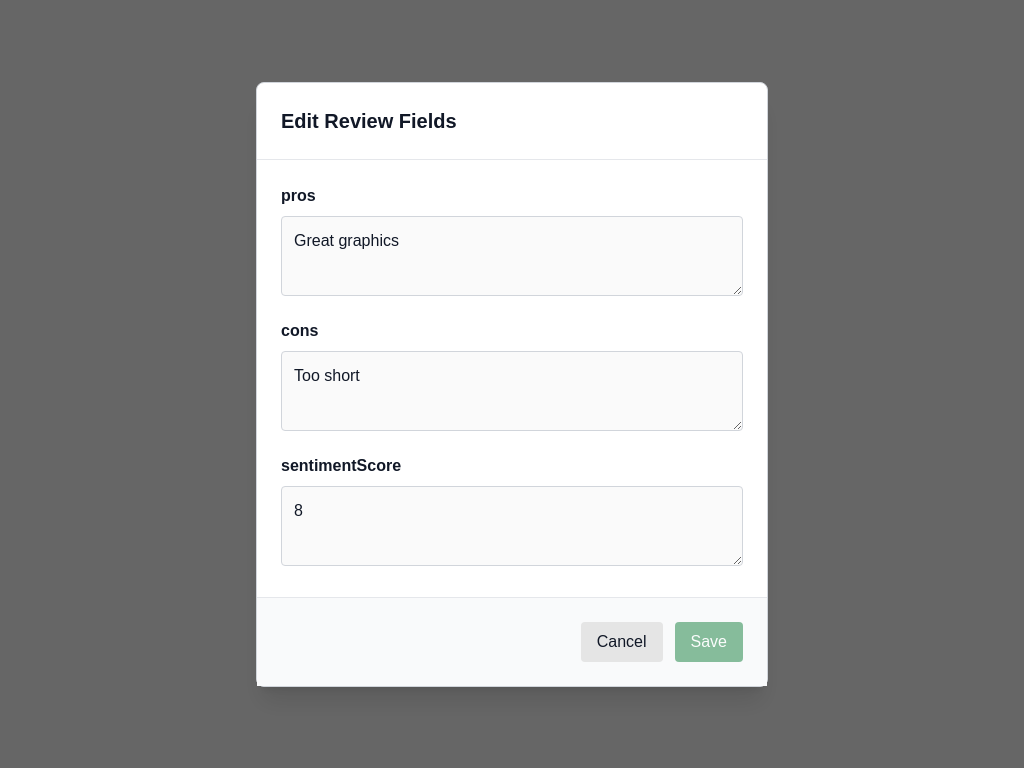
Test: EditReviewModal › displays error message on save failure
This screenshot has width=1024, height=768.
Replace the text in the text box showing "Great graphics" below "pros" with "Amazing visuals" at (512, 256), box [281,216,743,296]
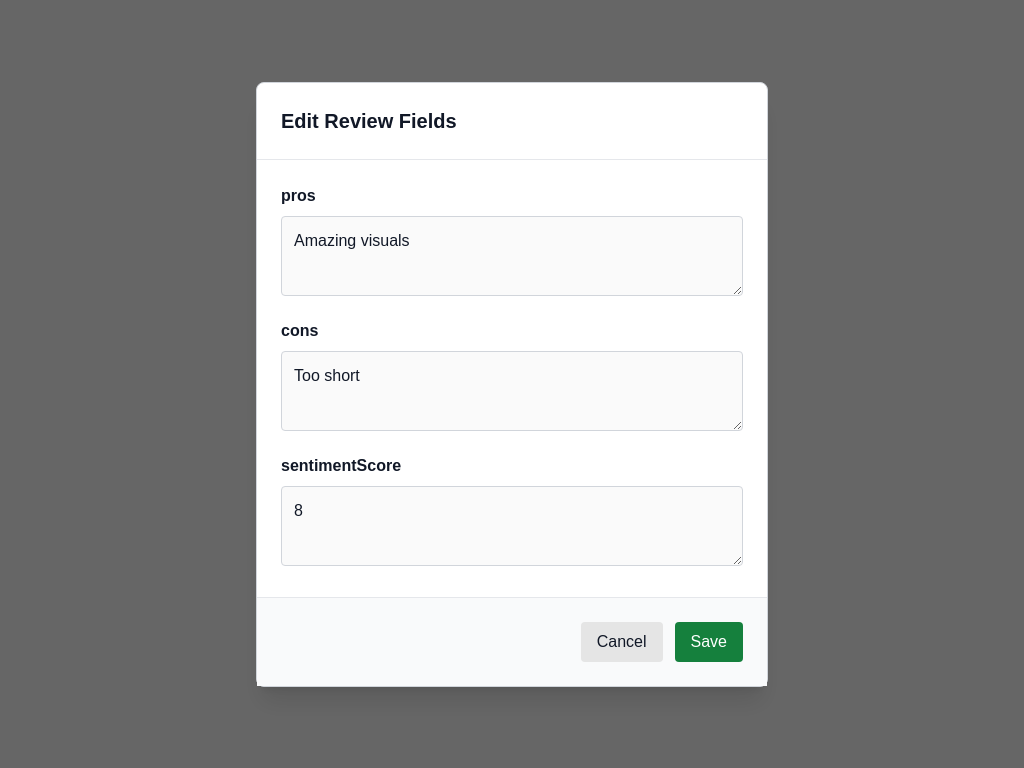
Click the button "Save" at (709, 642), box [674,622,743,662]
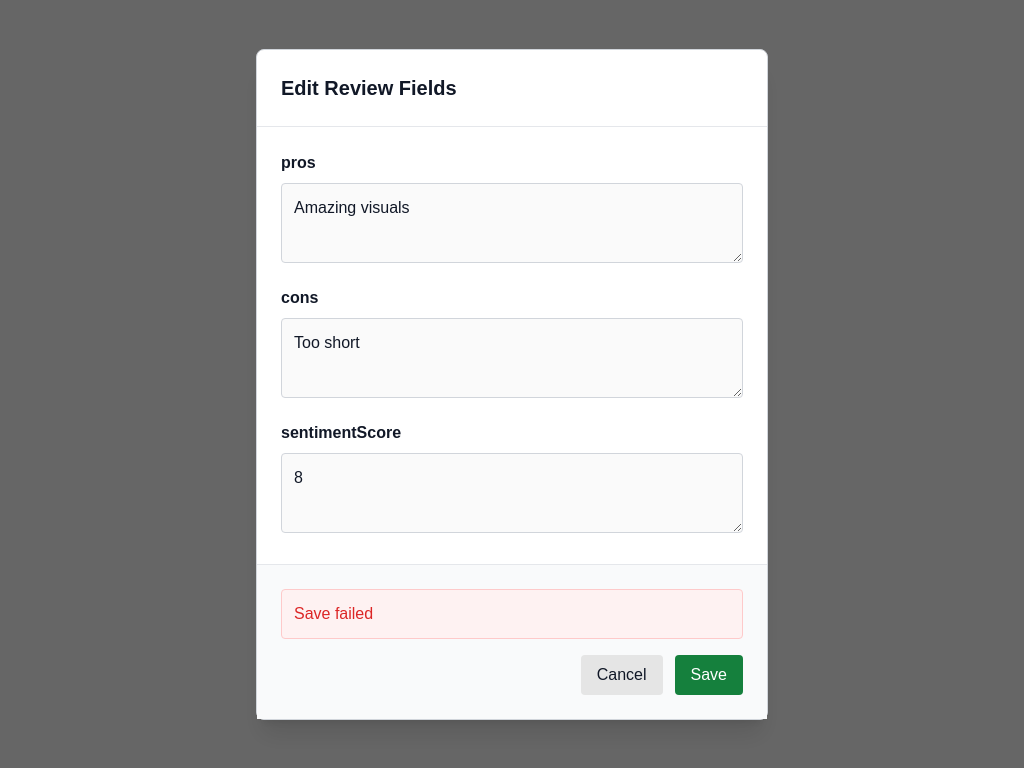
Now the text "Save failed" is shown, box [281,588,743,638]
